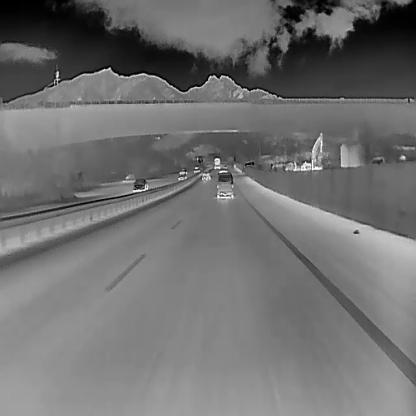car: (214, 170, 233, 199), (132, 178, 148, 192), (200, 169, 210, 180), (176, 172, 187, 180), (179, 166, 186, 174), (192, 166, 200, 172), (222, 163, 227, 168)
truck: (212, 157, 220, 169)
